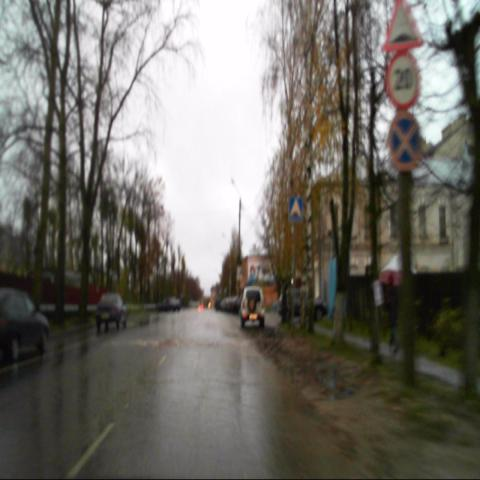3_24: (386, 50, 419, 109)
5_20: (288, 196, 303, 223)
